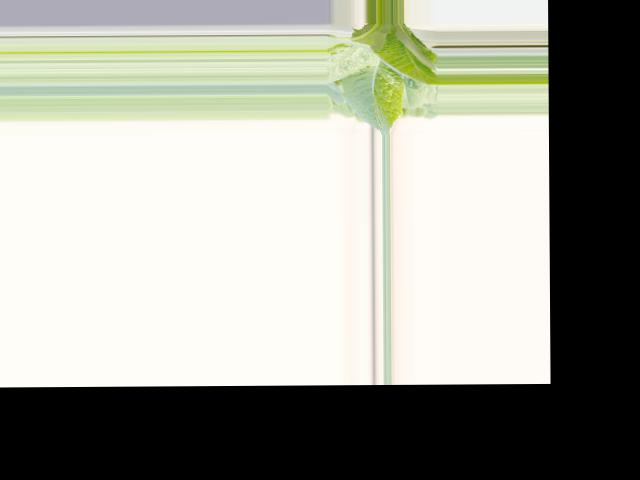lettuce: (337, 22, 436, 124)
